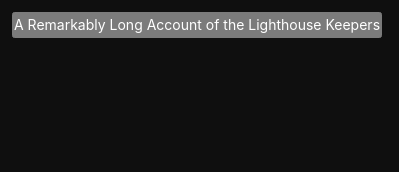
Test: can be hovered: moving onto the tip keeps it, leaving both hides it
This screenshot has width=399, height=172.
Later steps or results of the test are not shown.
Hover over the button "A Remarkably Long Account of the Lighthouse Keepers" at coordinates (197, 25), box [12,12,382,38]
Wait 500 ms
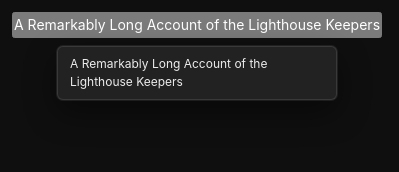
Expected: the text with class "tooltip-bubble" is shown
Hover over the text with class "tooltip-bubble" at coordinates (197, 73), box [57,46,337,100]
Wait 1000 ms
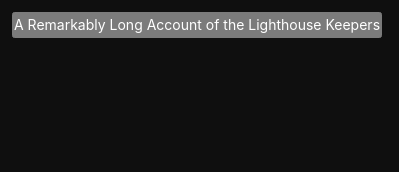
Expected: the text with class "tooltip-bubble" is gone
